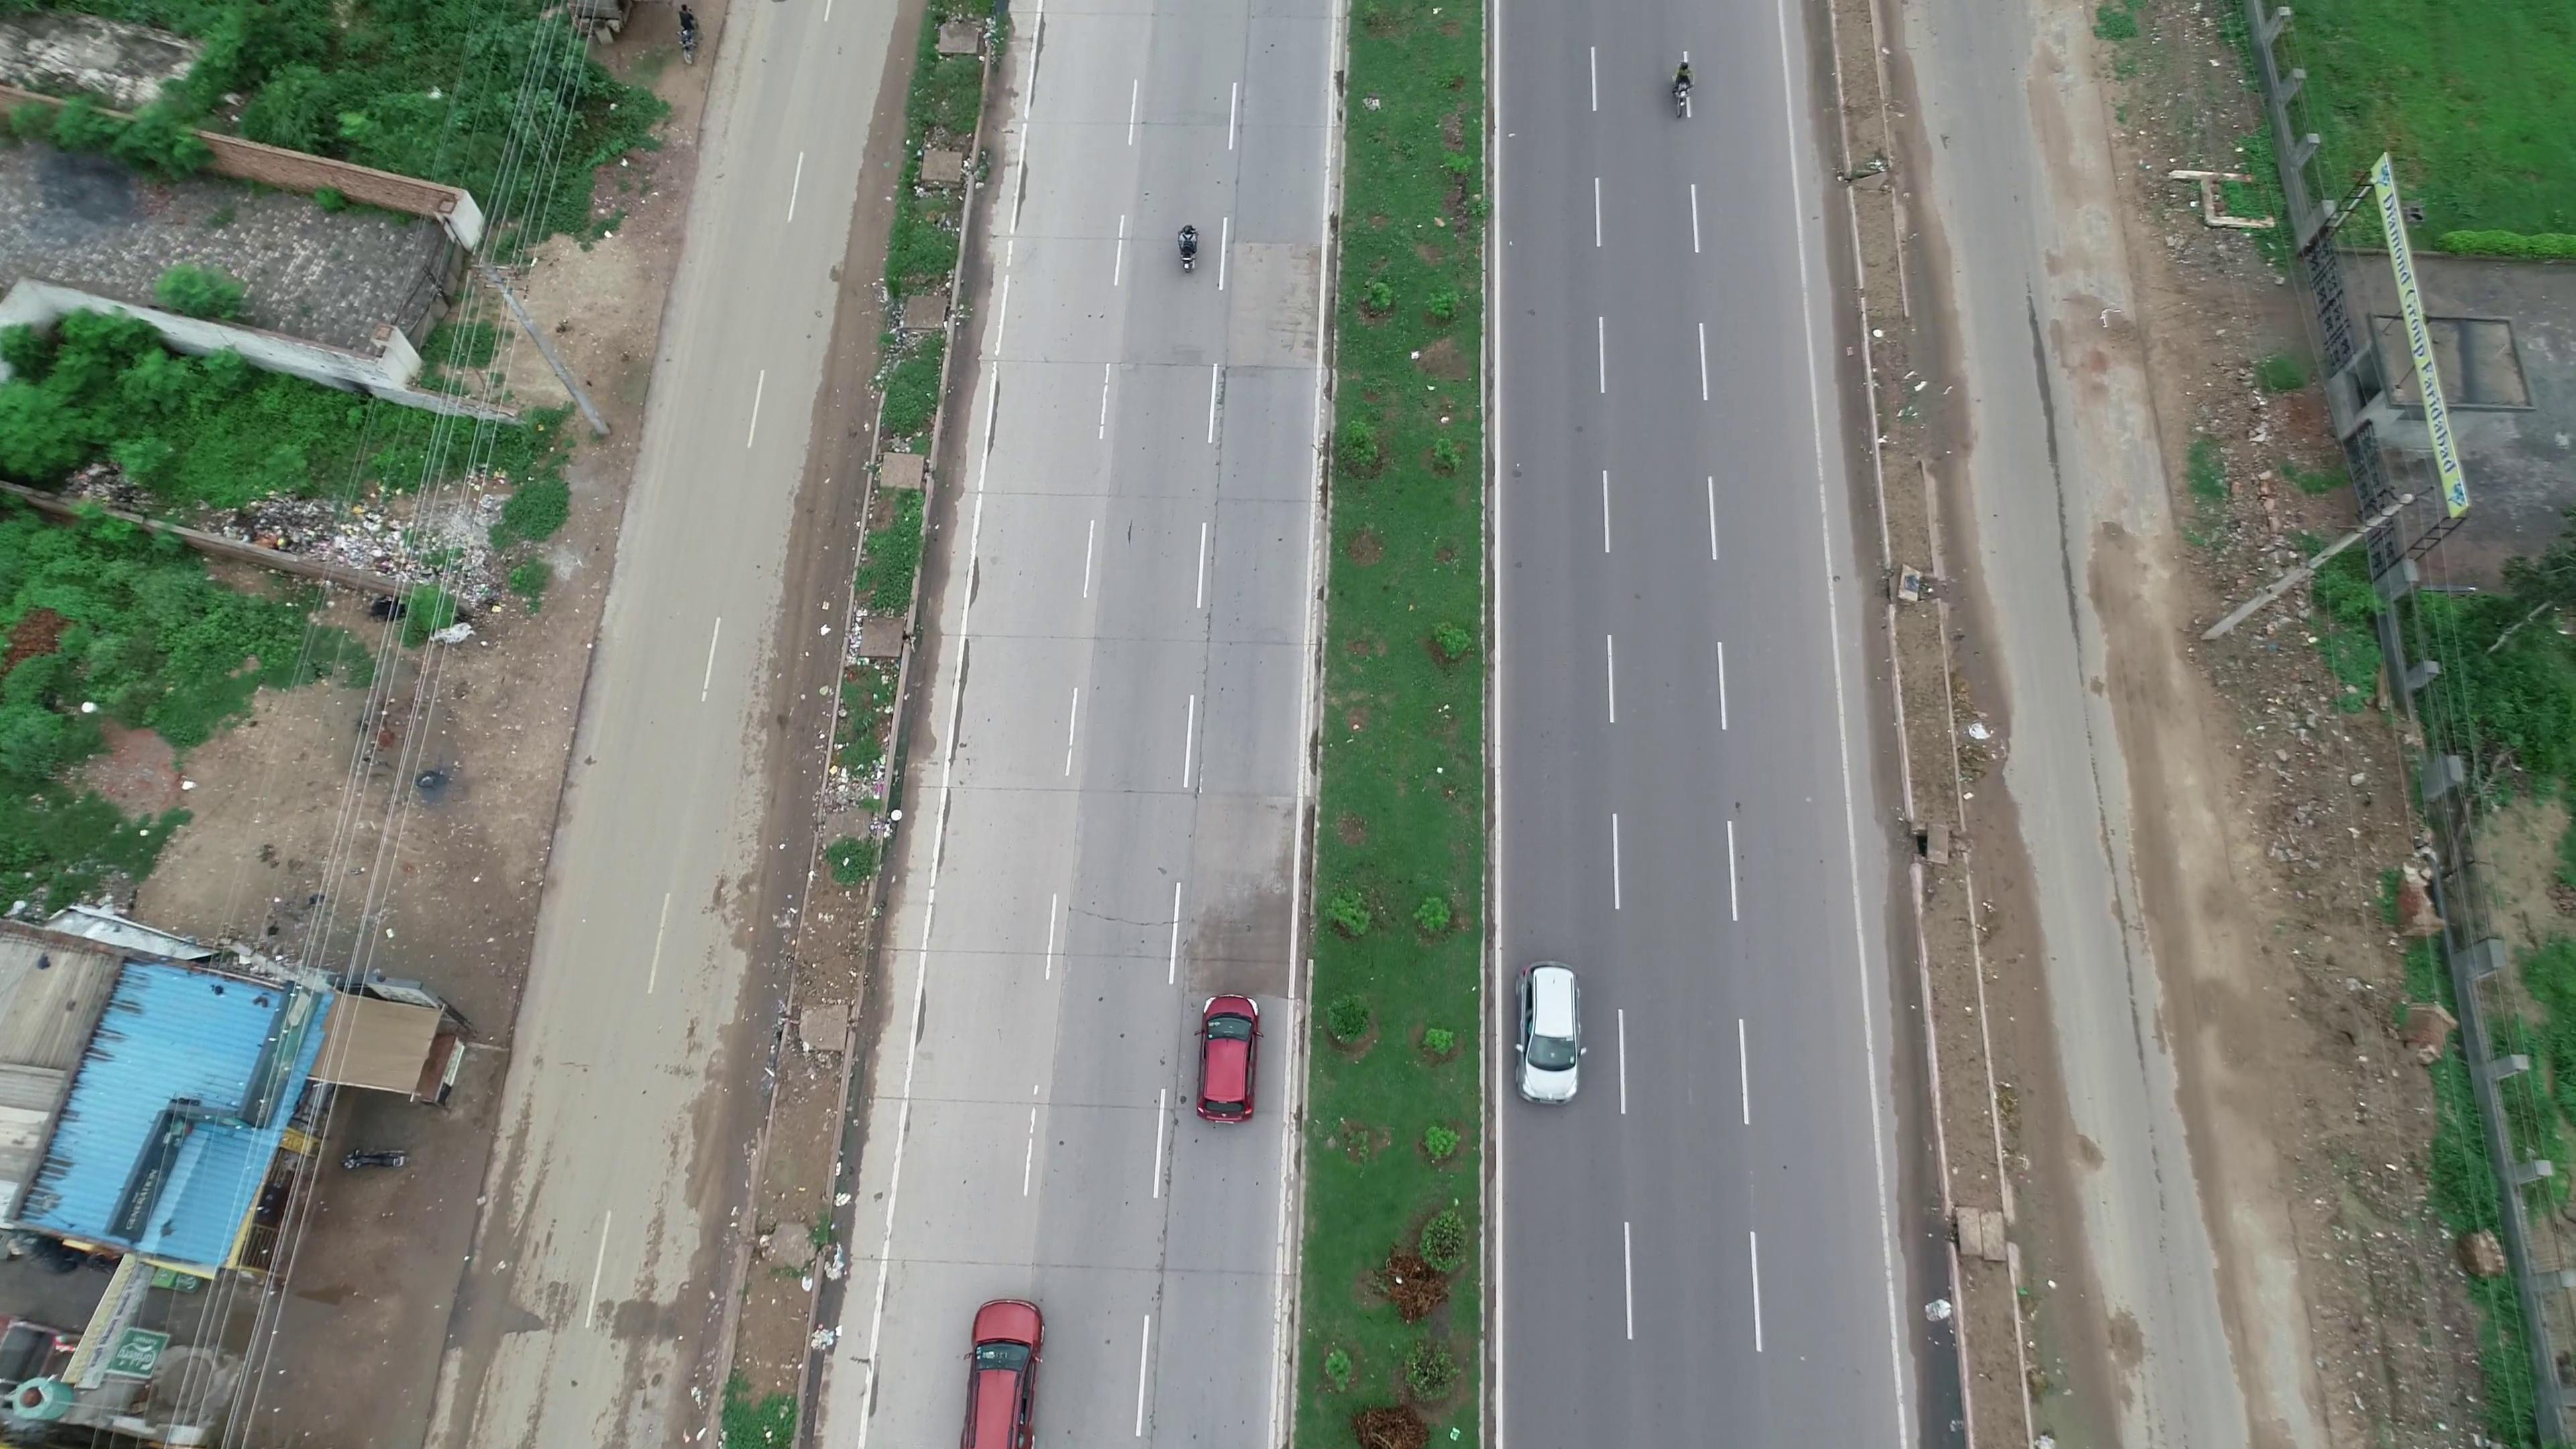Muddy_road: (2098, 582, 2259, 1196)
